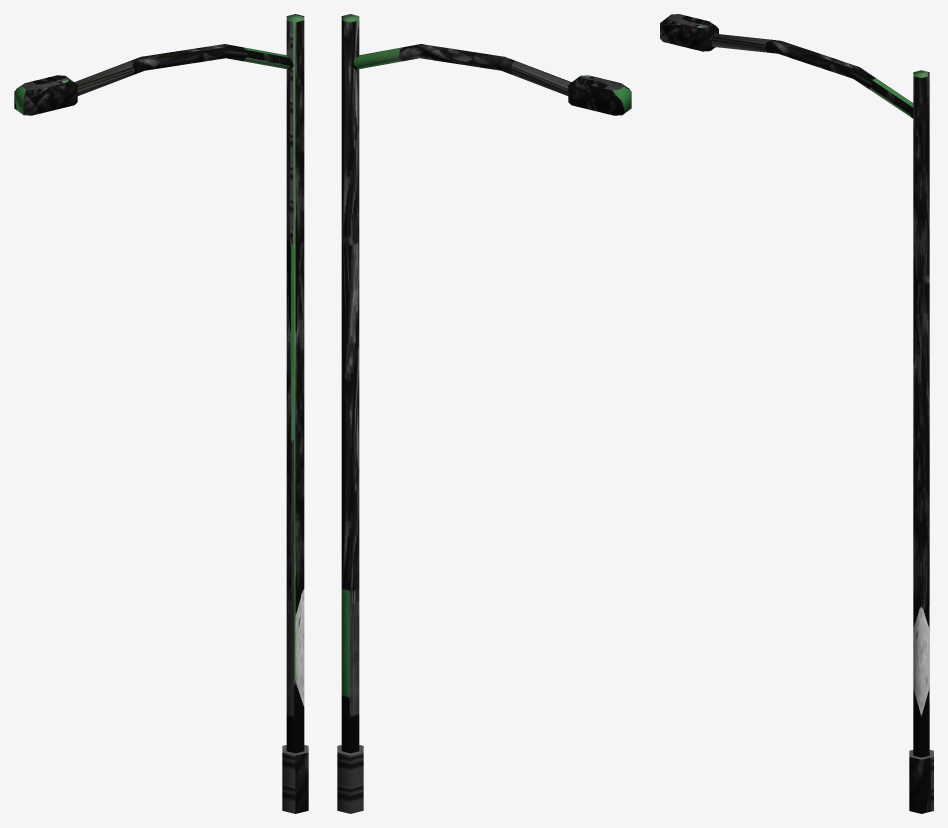
The model's file is lamp-post.glb.
3 views of the same model, side by side, from view 1: azimuth 30°, elevation 25°; view 2: azimuth 150°, elevation 25°; view 3: azimuth 330°, elevation 25° (orthographic). The views are drawn at different scales.
Visible parts, largest first — view 1: SM_OutsideLamp_Outside_0; view 2: SM_OutsideLamp_Outside_0; view 3: SM_OutsideLamp_Outside_0.
Boxes of the visible parts, left/top/right/bottom form: SM_OutsideLamp_Outside_0: left=14, top=14, right=308, bottom=813; SM_OutsideLamp_Outside_0: left=337, top=14, right=631, bottom=813; SM_OutsideLamp_Outside_0: left=660, top=14, right=933, bottom=813.
Size of the model in its own units: 1.39 by 3.61 by 0.1209.
1 material, 1 textured.
